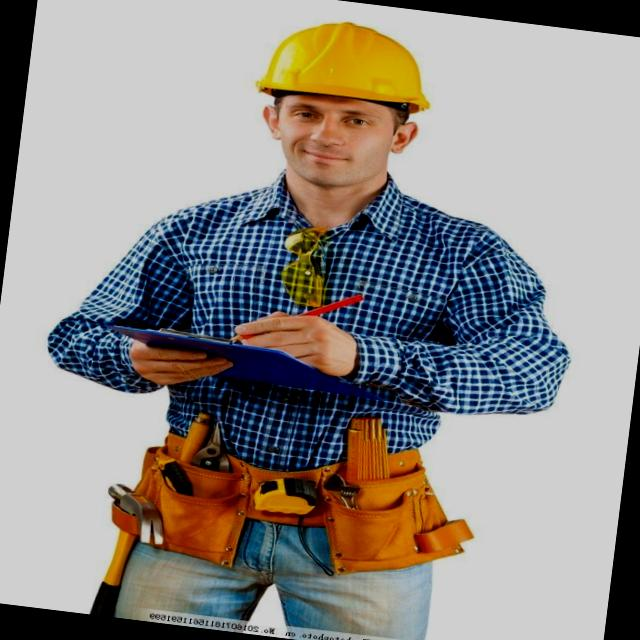helmet: (242, 6, 444, 124)
no-goggles: (257, 95, 408, 138)
no-vest: (96, 167, 507, 502)
